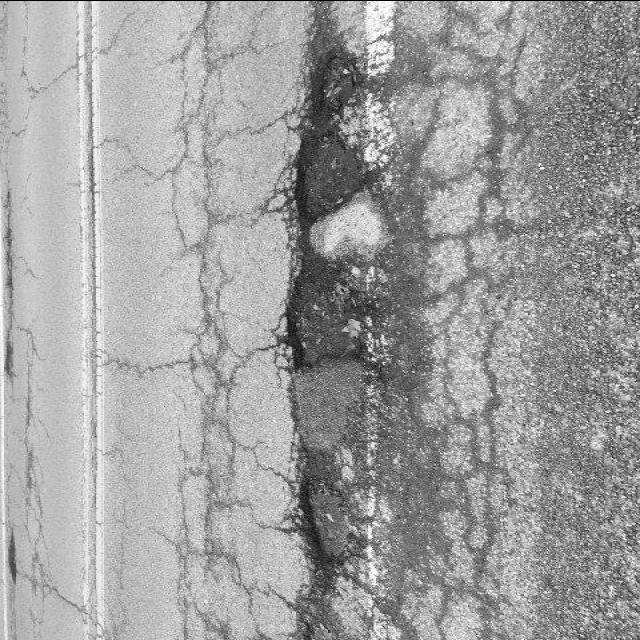jalan retak: (411, 0, 548, 640), (143, 4, 254, 638), (87, 336, 251, 404), (66, 134, 206, 208), (220, 174, 300, 238), (15, 387, 49, 523), (220, 97, 308, 145), (27, 566, 91, 624), (7, 56, 81, 106)
lubang: (255, 234, 401, 398), (278, 41, 388, 231), (255, 448, 381, 590), (270, 608, 353, 640), (1, 185, 20, 314), (1, 522, 28, 586), (0, 335, 22, 381)
